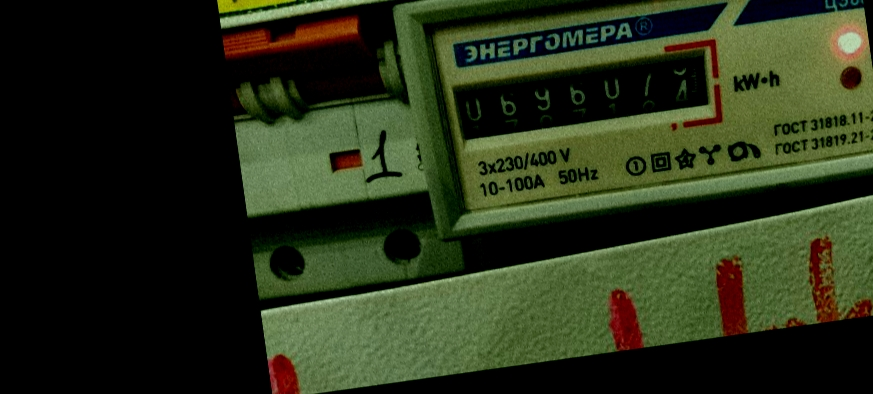0: (464, 93, 488, 125), (603, 70, 626, 103)
4: (672, 77, 695, 107)
6: (498, 87, 524, 120), (569, 77, 592, 108)
7: (638, 67, 659, 99)
9: (534, 83, 556, 114)
screen: (437, 33, 731, 161)
